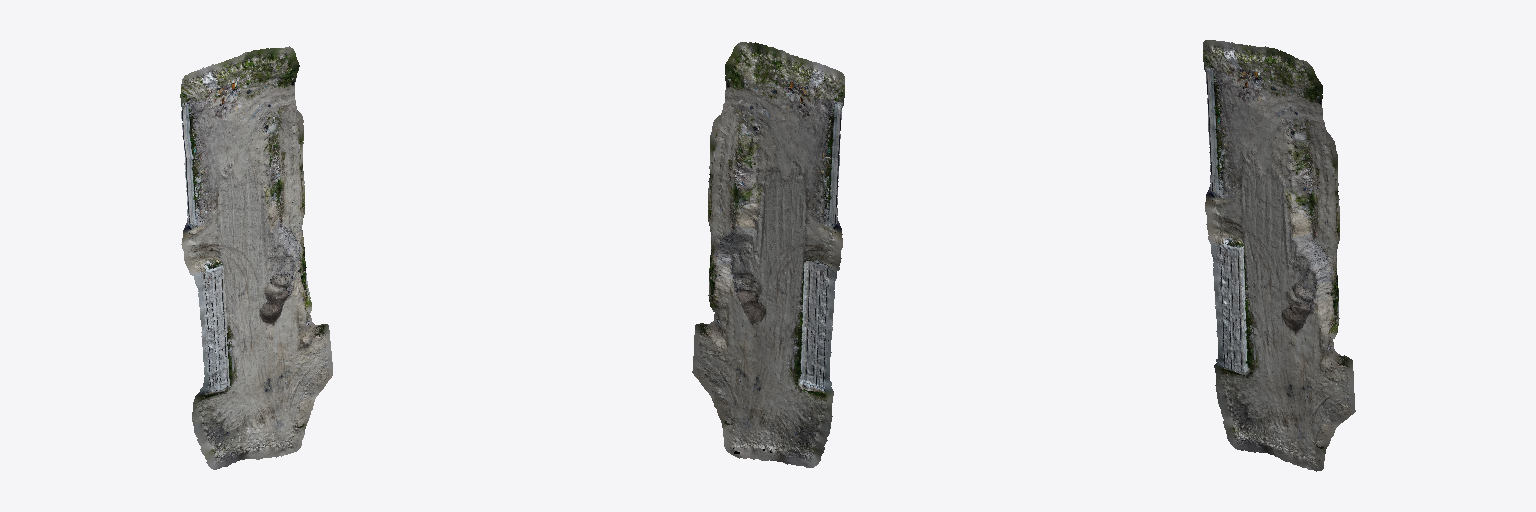
3 renders of one model, left to right at view 1: azimuth 30°, elevation 25°; view 2: azimuth 150°, elevation 25°; view 3: azimuth 330°, elevation 25°, orthographic.
Bounding box in the file's own units: 31.16 × 81.02 × 4.1.
Materials: 1 (1 with a texture image).